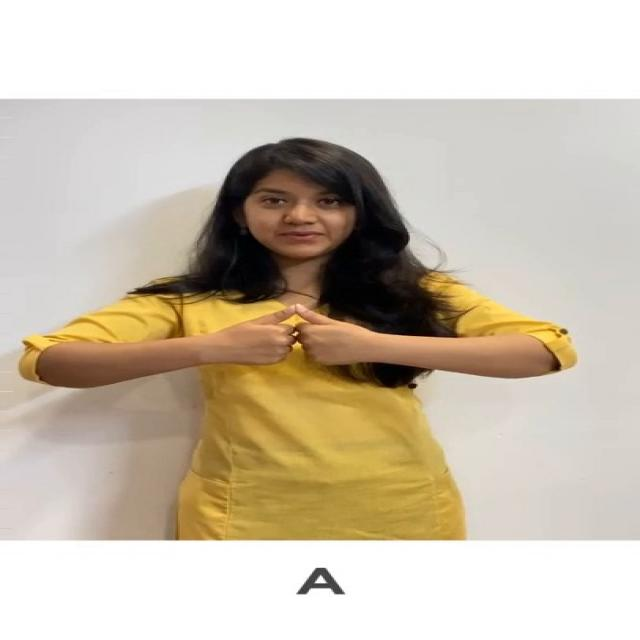A: (195, 295, 416, 383)
